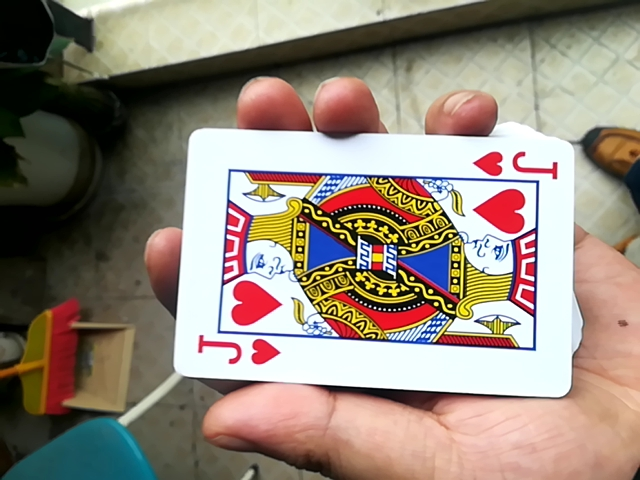hx j: (159, 123, 574, 401)
